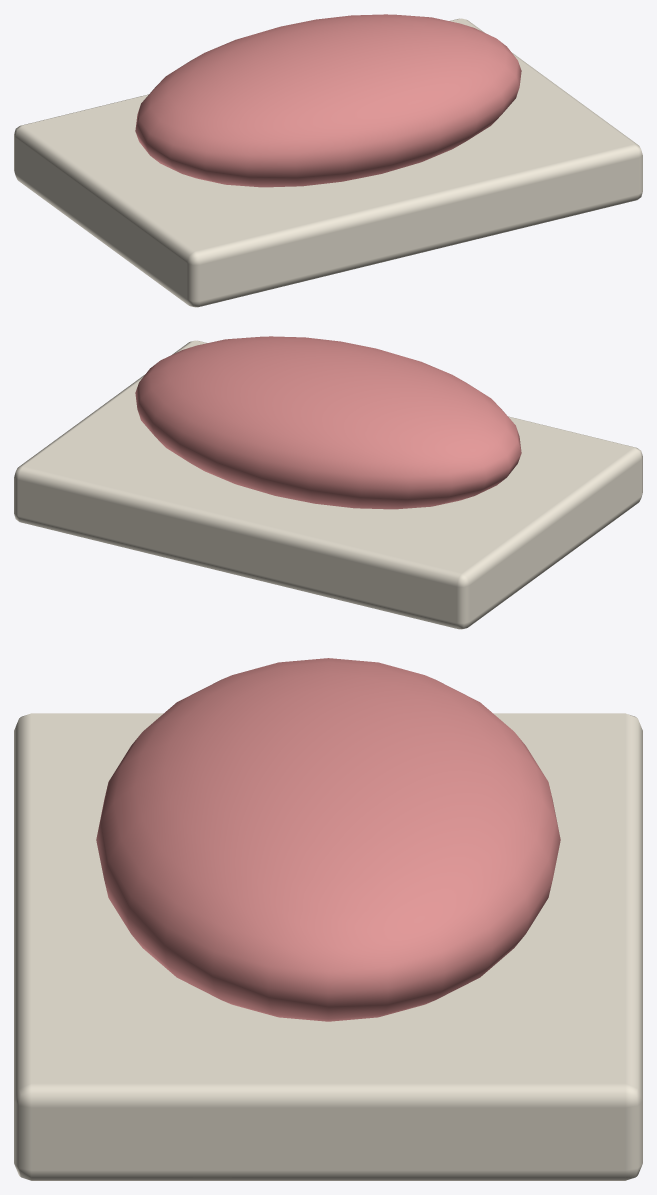
File: wp-savon-et-porte-savon.glb
3 views of the same model, one above another, from view 1: azimuth 30°, elevation 25°; view 2: azimuth 150°, elevation 25°; view 3: azimuth 270°, elevation 25° (orthographic). The views are drawn at different scales.
Visible parts, largest first — view 1: wp-savon-et-porte-savon; view 2: wp-savon-et-porte-savon; view 3: wp-savon-et-porte-savon.
Boxes of the visible parts, box(x1,y1,x2,y2) form: wp-savon-et-porte-savon: box(14, 14, 642, 307); wp-savon-et-porte-savon: box(14, 336, 642, 629); wp-savon-et-porte-savon: box(14, 658, 642, 1180).
Bounding box in the file's own units: 0.13 × 0.04 × 0.09.
